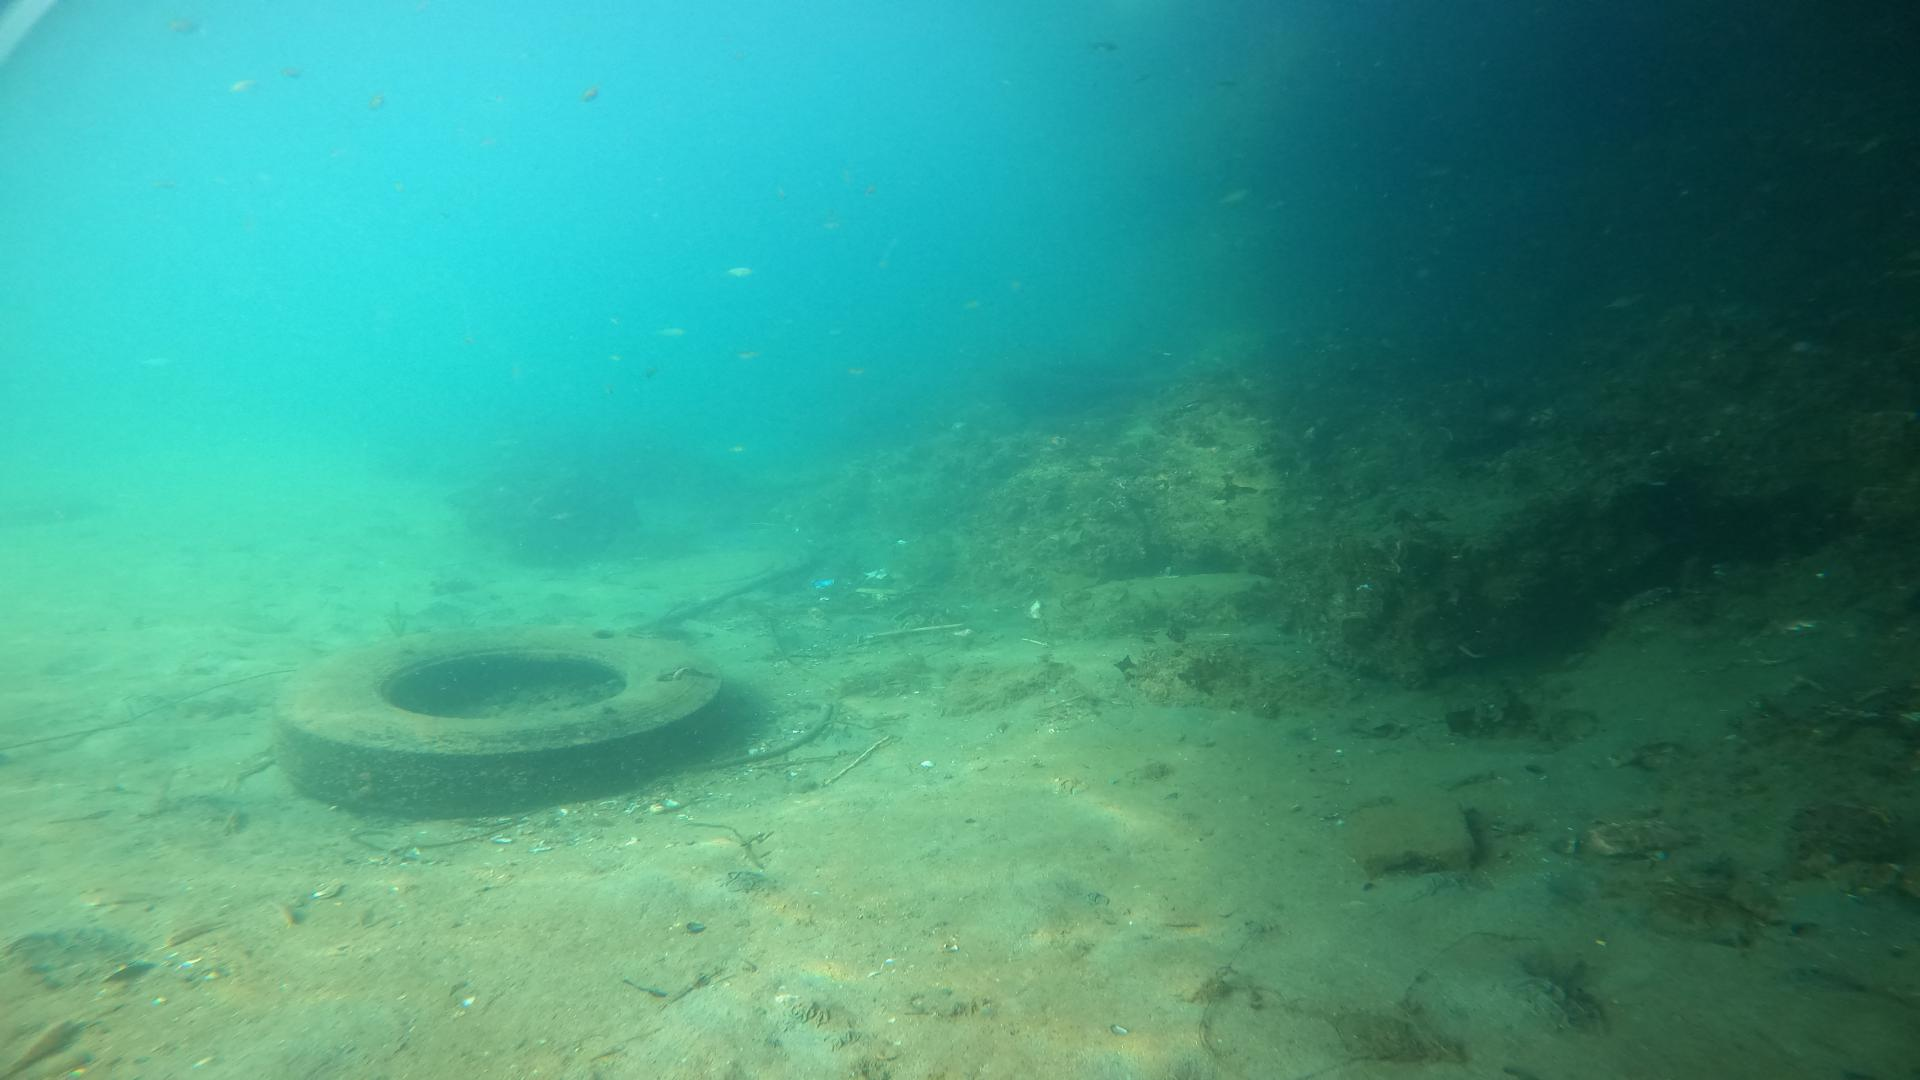tire: (266, 621, 724, 814)
